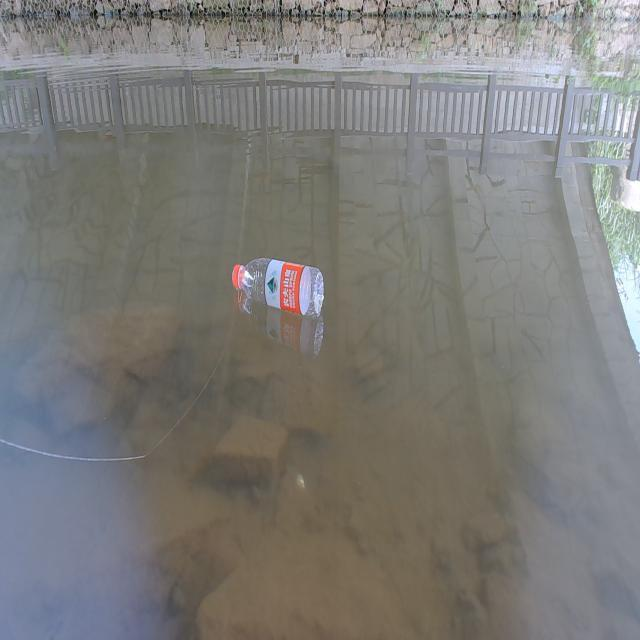garbage: (235, 288, 325, 358), (231, 256, 325, 318)
